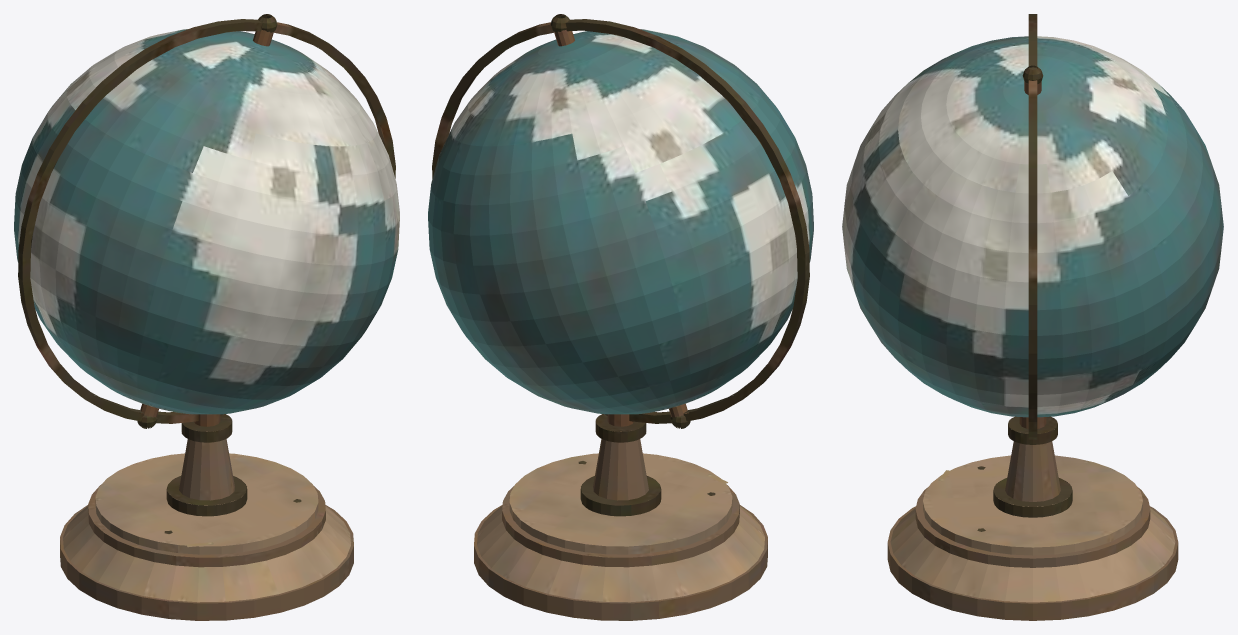
Rendered from S11_globe.glb.
3 views of the same model, side by side, from view 1: azimuth 30°, elevation 25°; view 2: azimuth 150°, elevation 25°; view 3: azimuth 270°, elevation 25° (orthographic).
Visible parts, largest first — view 1: Dark lower plinth; view 2: Dark lower plinth; view 3: Dark lower plinth.
Part boxes in pixels (<box>): Dark lower plinth: <box>14,14,399,620</box>; Dark lower plinth: <box>428,14,813,620</box>; Dark lower plinth: <box>842,14,1223,620</box>.
Bounding box in the file's own units: 0.2918 × 0.4 × 0.2621.
8 materials, 8 textured.
